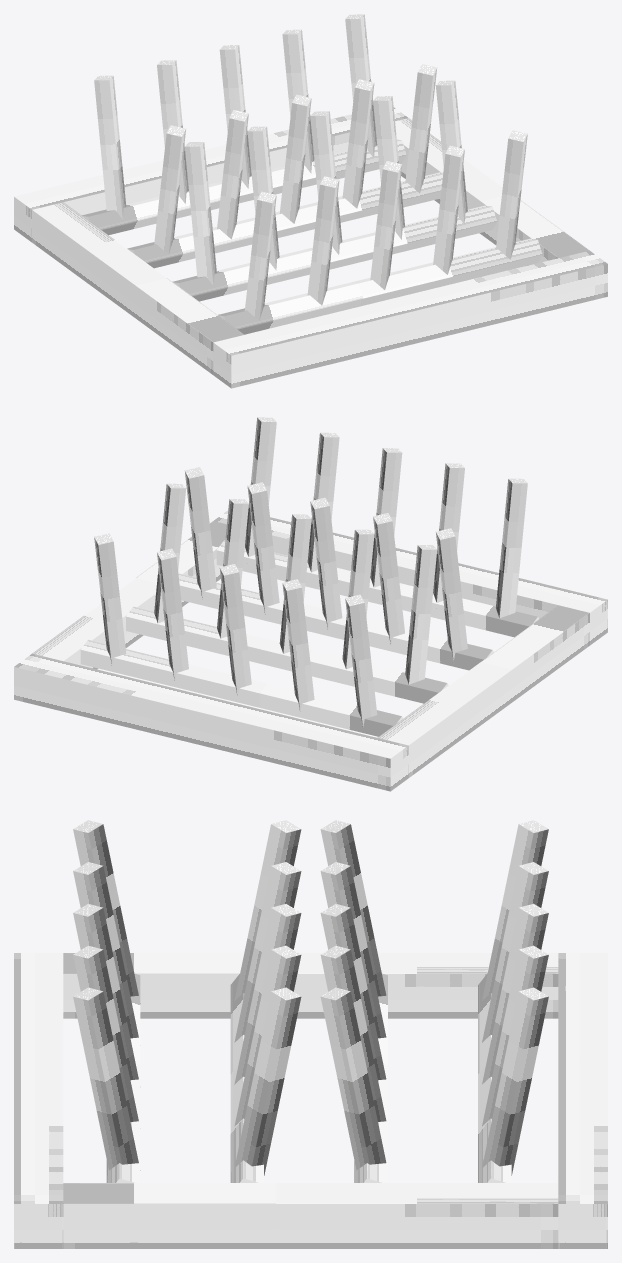
The model's file is Building_TrapSpike.glb.
The picture shows the model from 3 angles, top to bottom: view 1: azimuth 30°, elevation 25°; view 2: azimuth 150°, elevation 25°; view 3: azimuth 270°, elevation 25°; orthographic projection. The views are drawn at different scales.
Parts seen in each view (by area): view 1: TrapSpike; view 2: TrapSpike; view 3: TrapSpike.
Boxes of the visible parts, <box> form: TrapSpike: <box>14,14,607,388</box>; TrapSpike: <box>14,417,607,791</box>; TrapSpike: <box>14,820,607,1248</box>.
Size of the model in its own units: 0.96 by 0.3846 by 0.96.
1 material, 1 textured.
